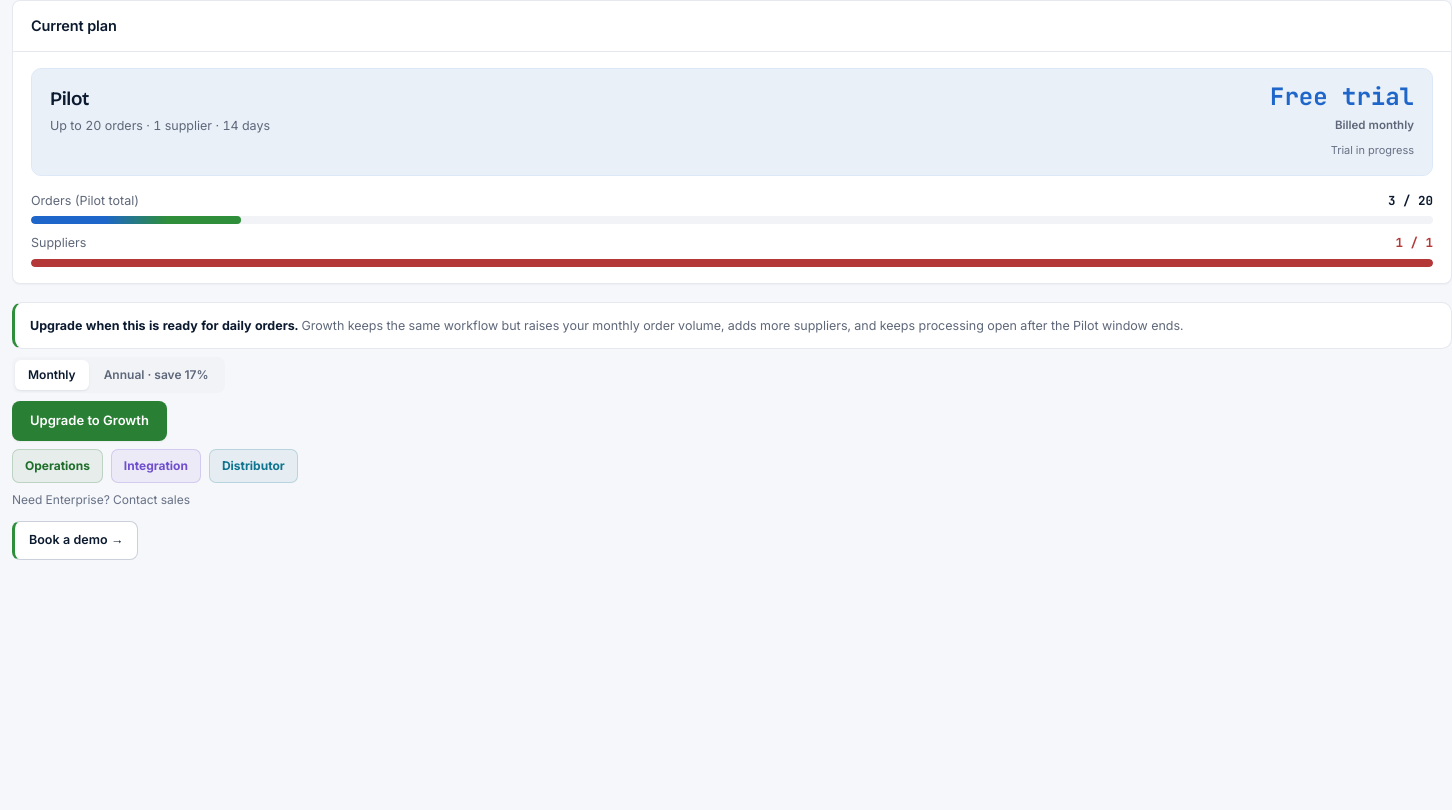
Test: A-F8d — a refused checkout never shows a status line or an internal code › the_client_built_status_line_never_reaches_the_customer
Expected: the text "Current plan" is shown, [31,17,117,34]
Click the button "Upgrade to Growth" at (89, 421), box [12,401,167,441]
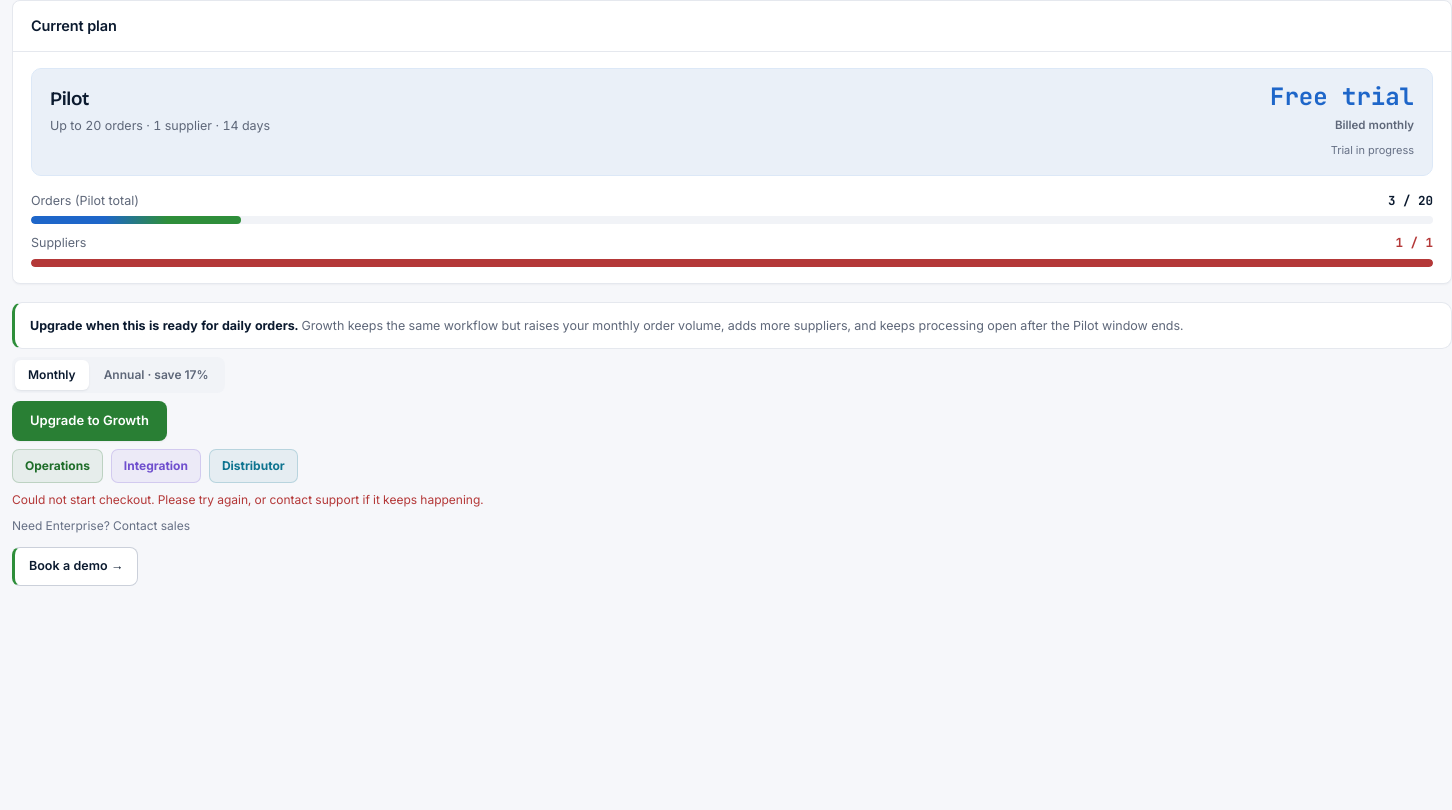
Expected: the message with test id "checkout-error" shows "Could not start checkout", [12,492,484,507]
Expected: the message with test id "checkout-error" shows "contact support", [12,492,484,507]
